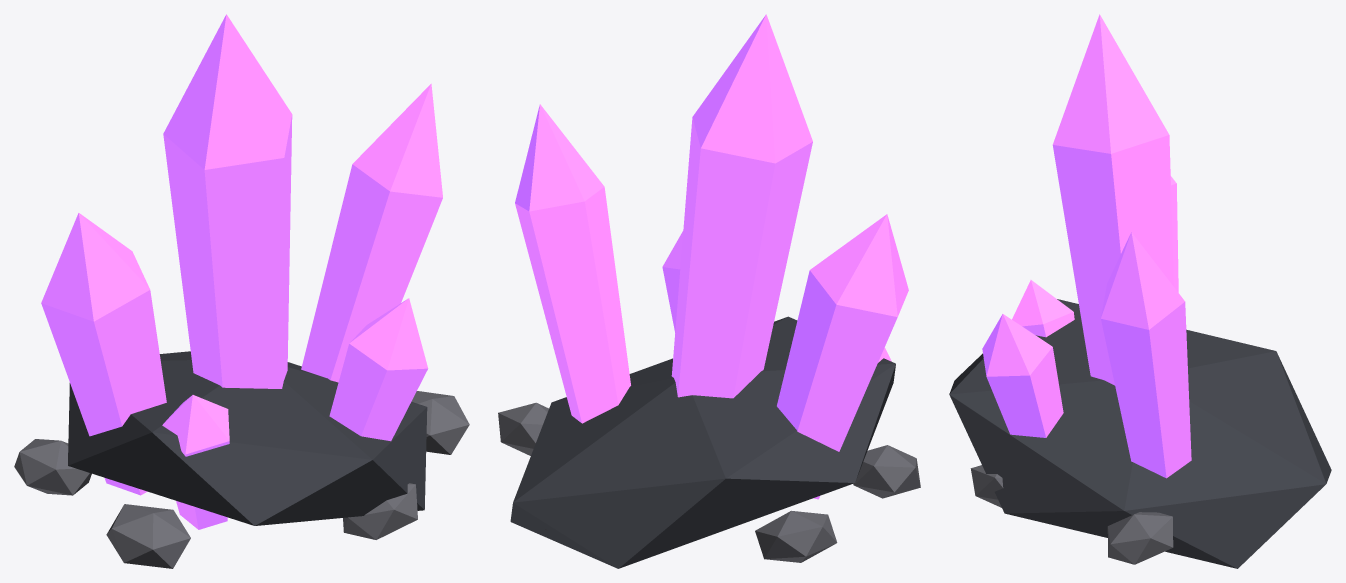
Rendered from Violet_Crystal_Cluster.glb.
3 renders of one model, left to right at view 1: azimuth 30°, elevation 25°; view 2: azimuth 150°, elevation 25°; view 3: azimuth 270°, elevation 25°, orthographic. The views are drawn at different scales.
Parts seen in each view (by area): view 1: Violet_Crystal_Cluster; view 2: Violet_Crystal_Cluster; view 3: Violet_Crystal_Cluster.
Boxes of the visible parts, x1,y1,x2,y2 form: Violet_Crystal_Cluster: (14, 14, 469, 568); Violet_Crystal_Cluster: (498, 14, 920, 568); Violet_Crystal_Cluster: (949, 14, 1331, 568).
Bounding box in the file's own units: 1.33 × 1.6 × 1.18.
